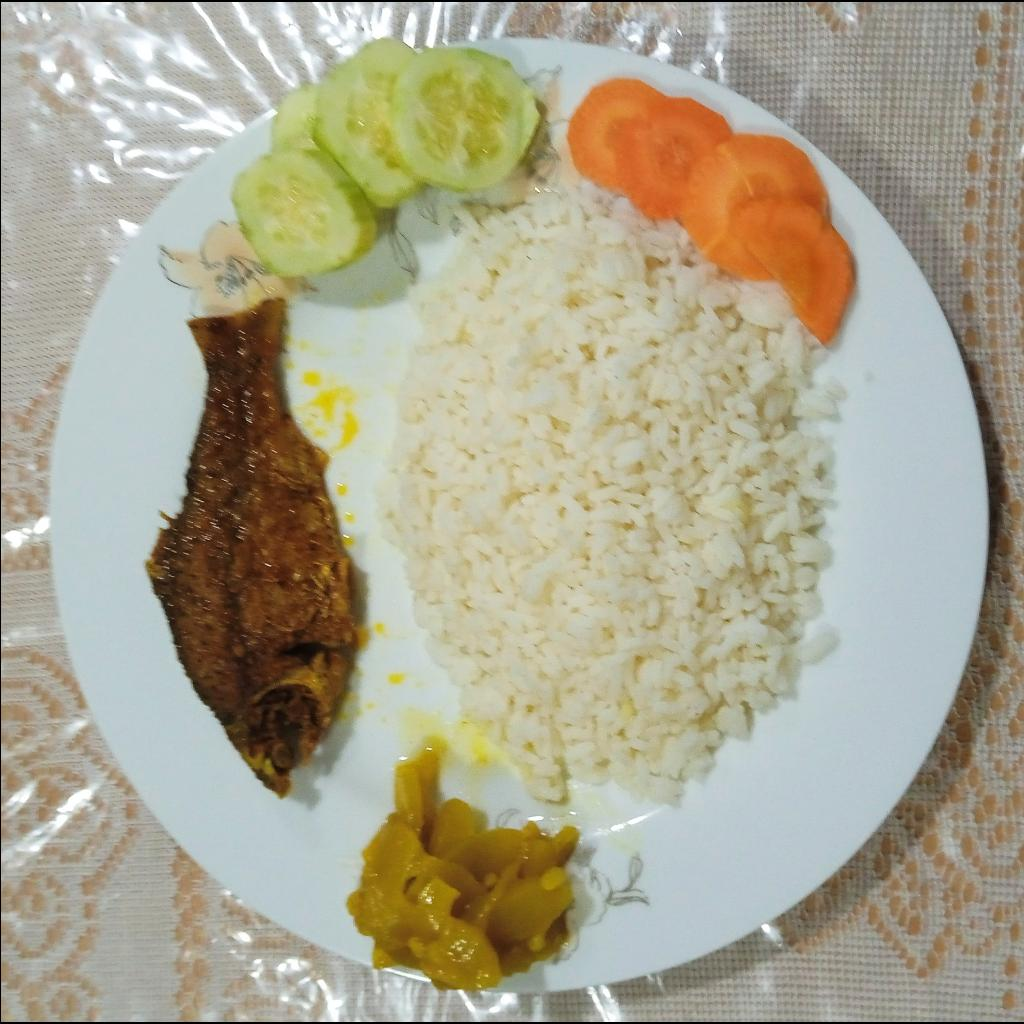carrot: (563, 76, 858, 345)
cucumber: (231, 32, 540, 282)
fish: (147, 298, 358, 801)
lau: (347, 744, 582, 996)
rice: (374, 156, 846, 809)
